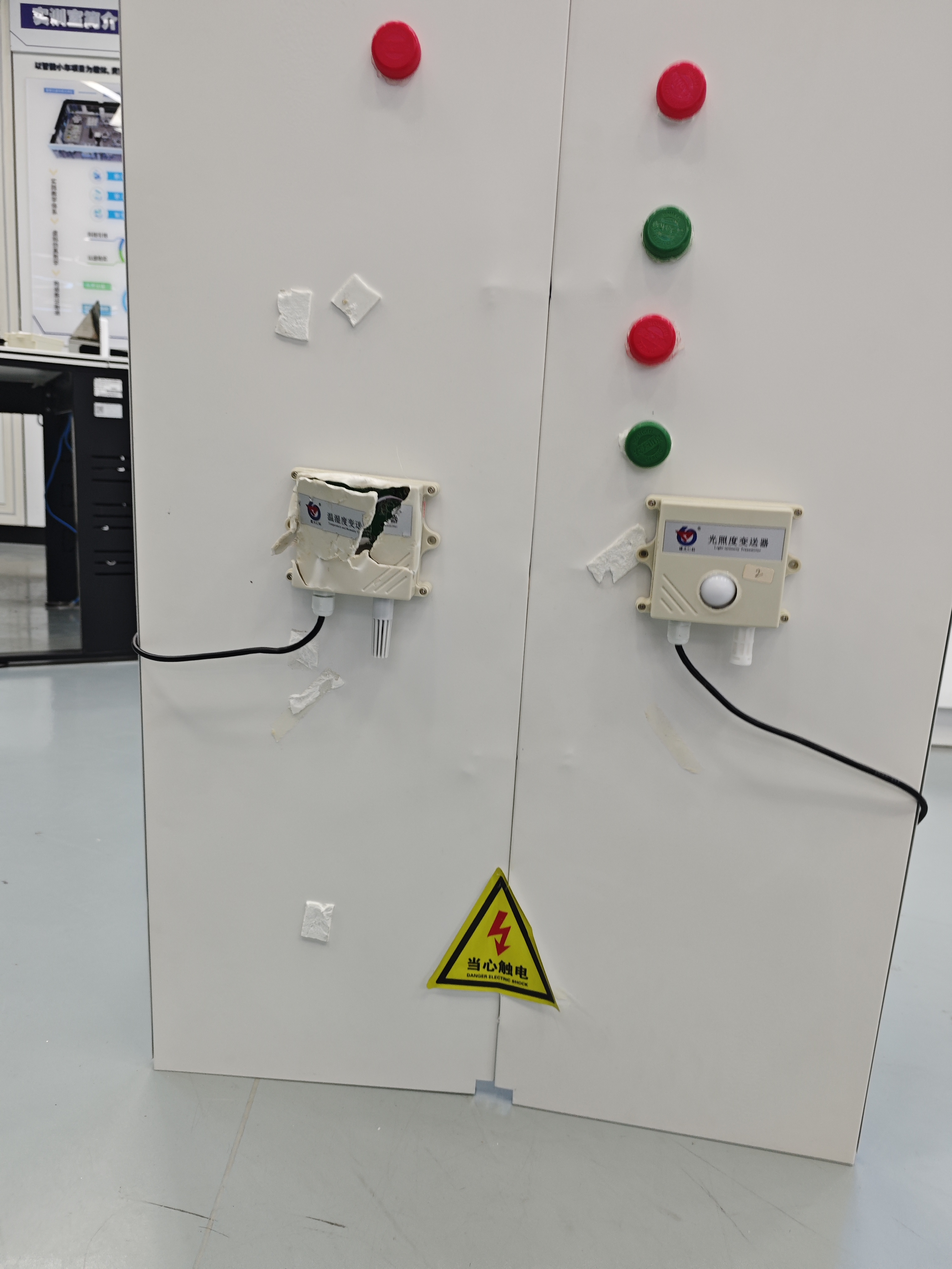red_warning: (598, 290, 738, 383), (350, 8, 462, 96), (636, 41, 712, 149)
sensor_damage: (249, 435, 476, 681)
